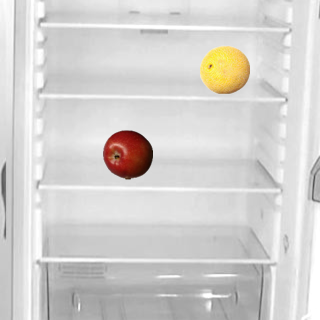Apple Braeburn: (102, 129, 152, 179)
Cantaloupe 1: (199, 44, 249, 94)
